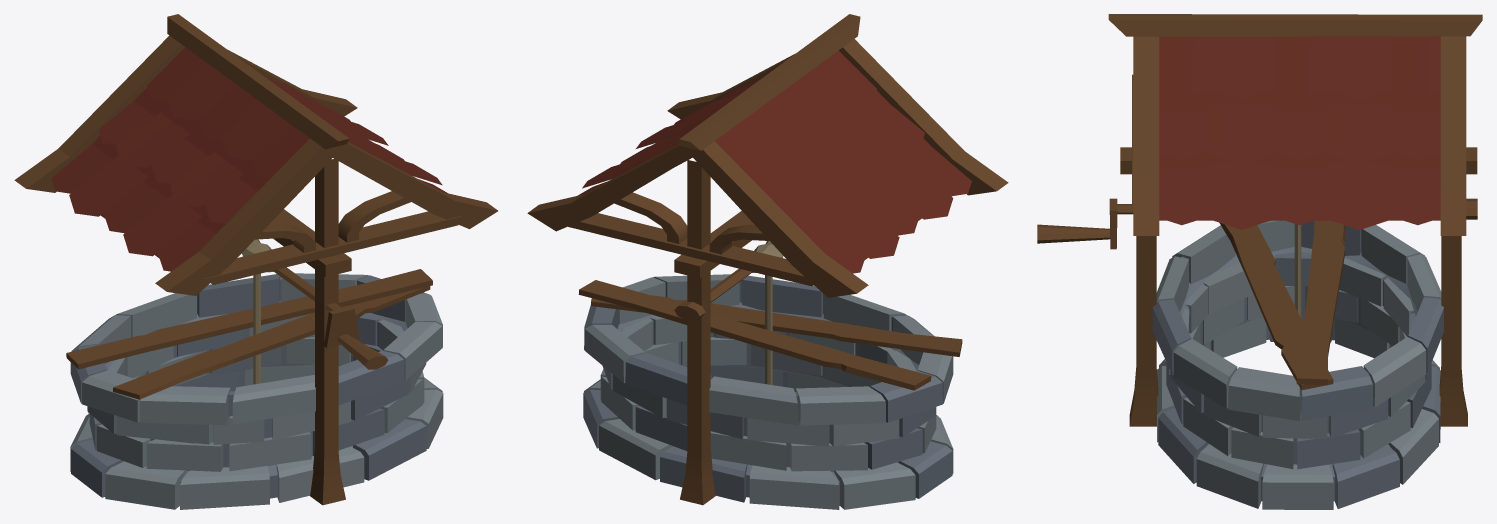
The model's file is well.glb.
3 renders of one model, left to right at view 1: azimuth 30°, elevation 25°; view 2: azimuth 150°, elevation 25°; view 3: azimuth 270°, elevation 25°, orthographic. The views are drawn at different scales.
Visible parts, largest first — view 1: Well; view 2: Well; view 3: Well.
Boxes of the visible parts, bbox=[...] form: Well: bbox=[14, 14, 497, 509]; Well: bbox=[527, 14, 1008, 509]; Well: bbox=[1037, 14, 1482, 509].
Size of the model in its own units: 1 by 1 by 1.
